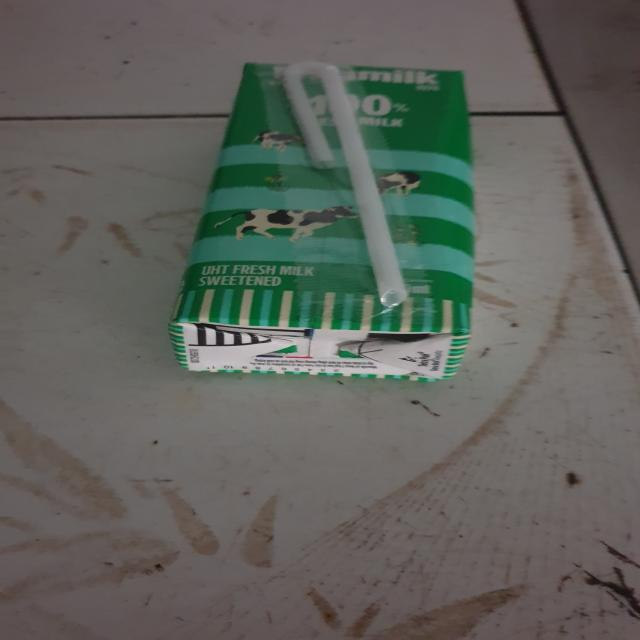Vina: (168, 64, 470, 379)
